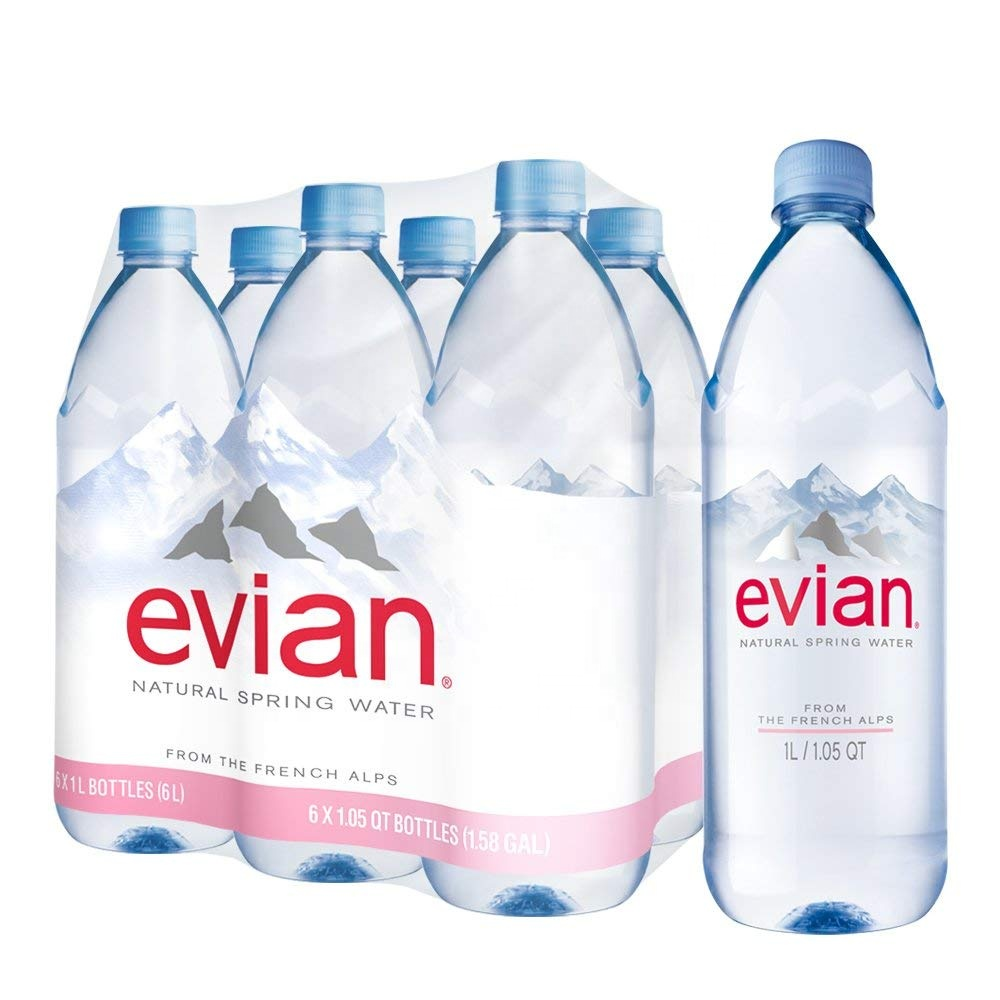PlasticBottle: (706, 112, 972, 940)
